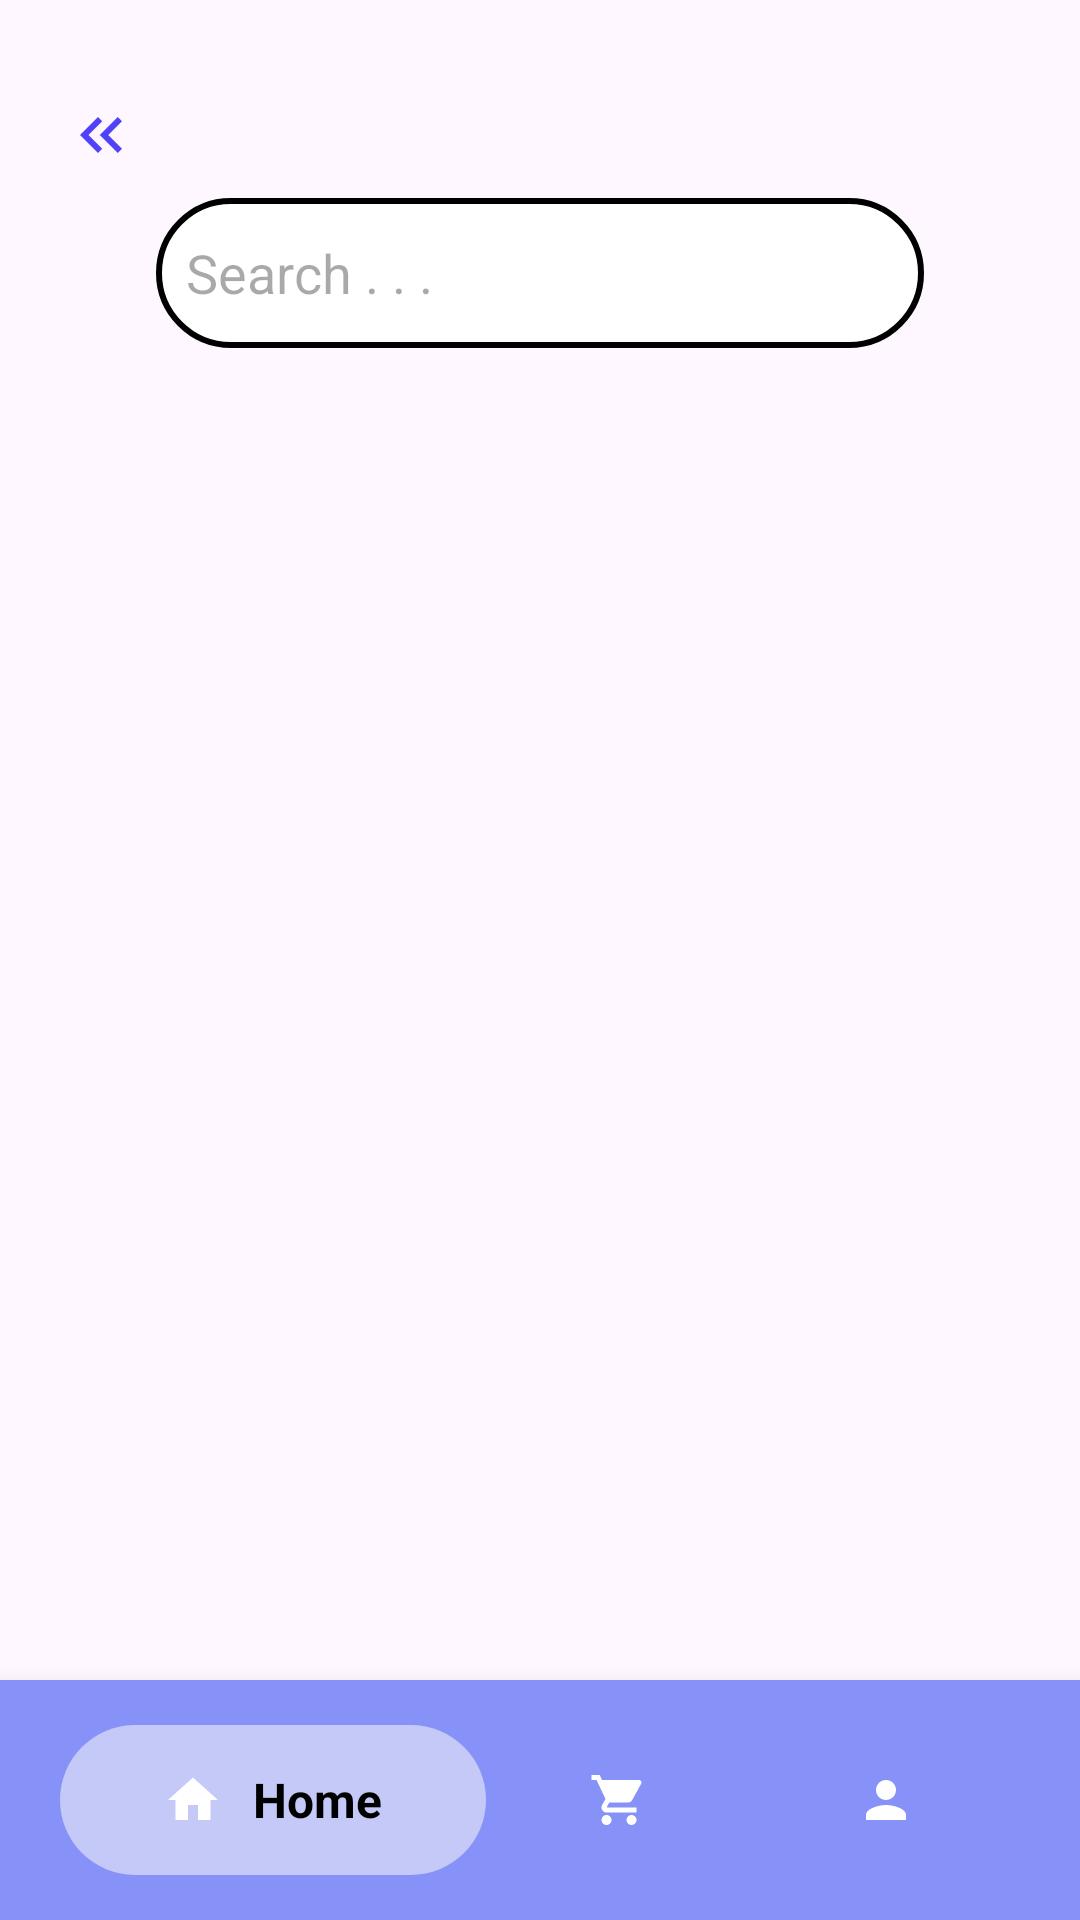

Named icons in this screenshot (1080w x 1920h) and their bounding boxes, (x1, y1, x2, y2):
cart homepage: (591, 1775, 642, 1825)
profile homepage: (866, 1780, 906, 1820)
return left: (80, 117, 122, 153)
